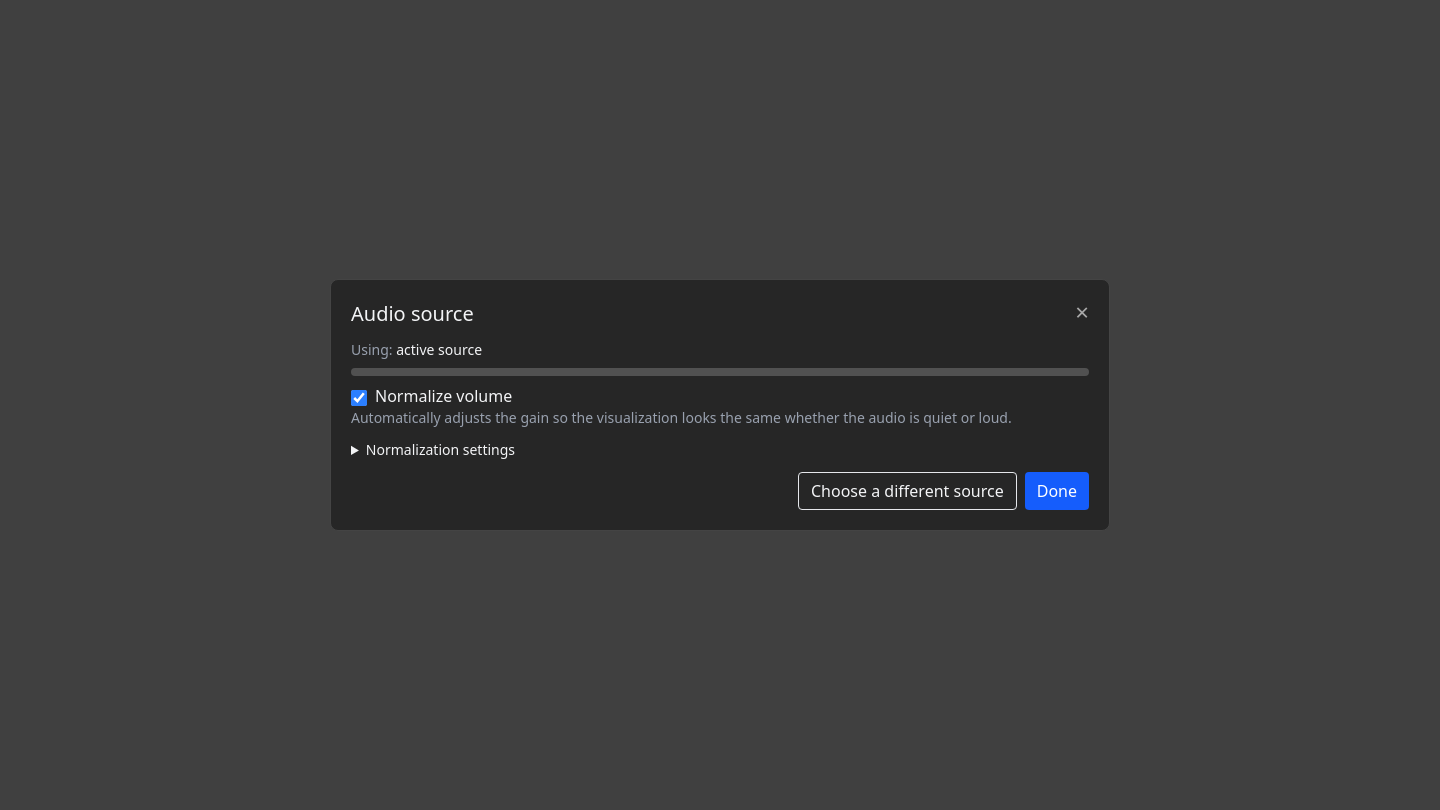
Test: AudioSourceDialog › while a source is capturing › switches to the chooser and back without closing
Click the button "Choose a different source".
click(907, 491)  # box [798,472,1017,510]
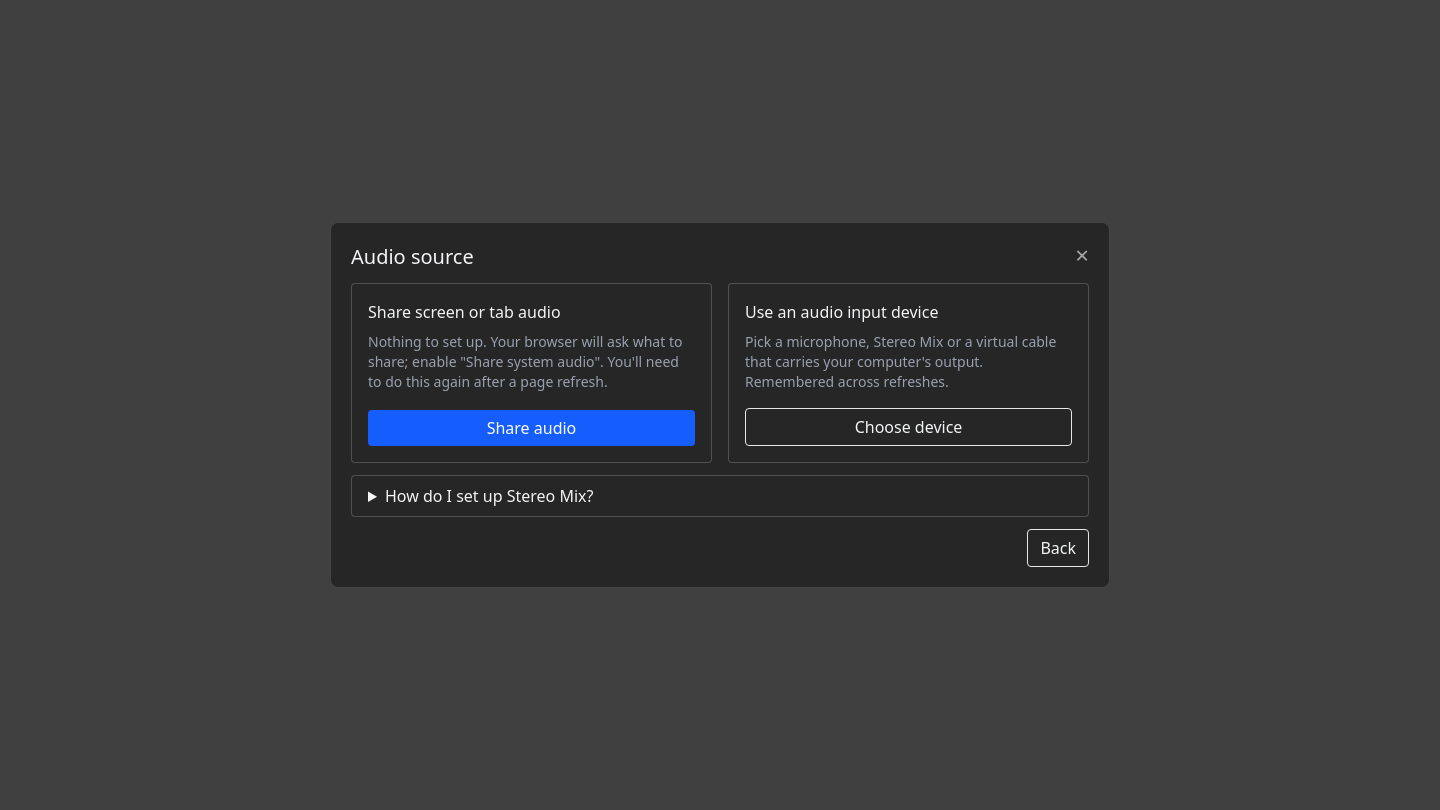
Result: the button "Share audio" is shown at [368,410,695,446]
Click the button "Back".
click(1058, 548)  # box [1027,529,1089,567]
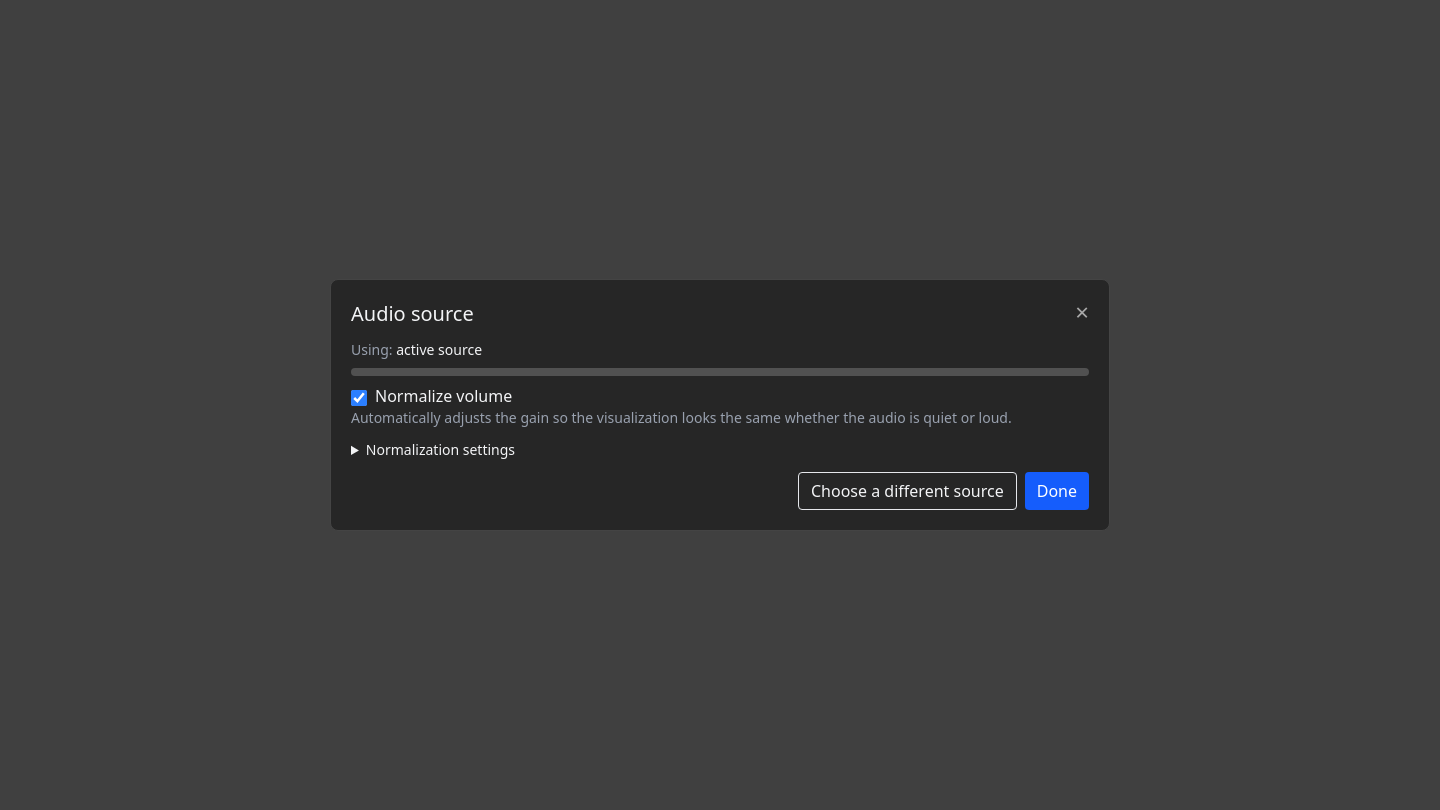
Result: the button "Done" is shown at [1025,472,1089,510]
